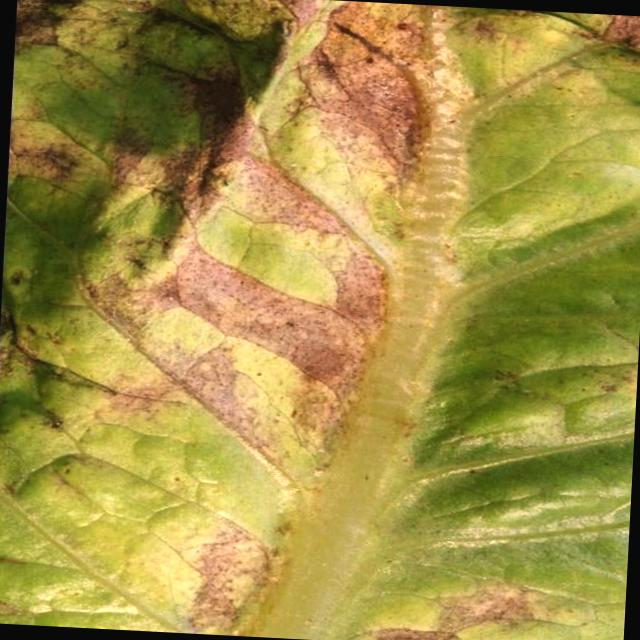Septoria_Blight: (0, 0, 430, 635)
